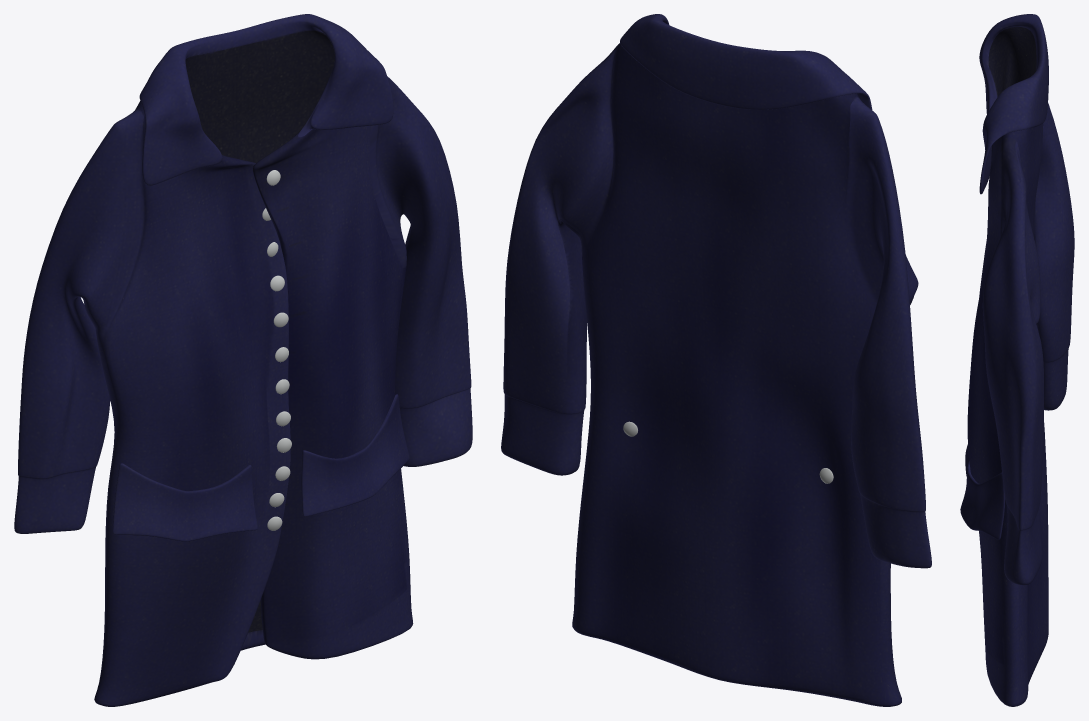
Rendered from Coat.fbx.
3 views of the same model, side by side, from view 1: azimuth 30°, elevation 25°; view 2: azimuth 150°, elevation 25°; view 3: azimuth 270°, elevation 25° (orthographic). The views are drawn at different scales.
Visible parts, largest first — view 1: Coat; view 2: Coat; view 3: Coat.
Part boxes in pixels (x1,y1,x2,y2): Coat: (14,14,472,706); Coat: (501,14,931,706); Coat: (960,14,1074,706).
Size of the model in its own units: 91.71 by 125 by 21.92.
